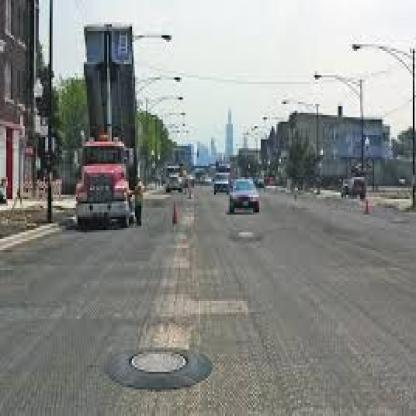manholes: (126, 330, 197, 396), (230, 224, 268, 246)
